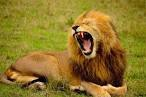lion: (6, 16, 129, 97)
